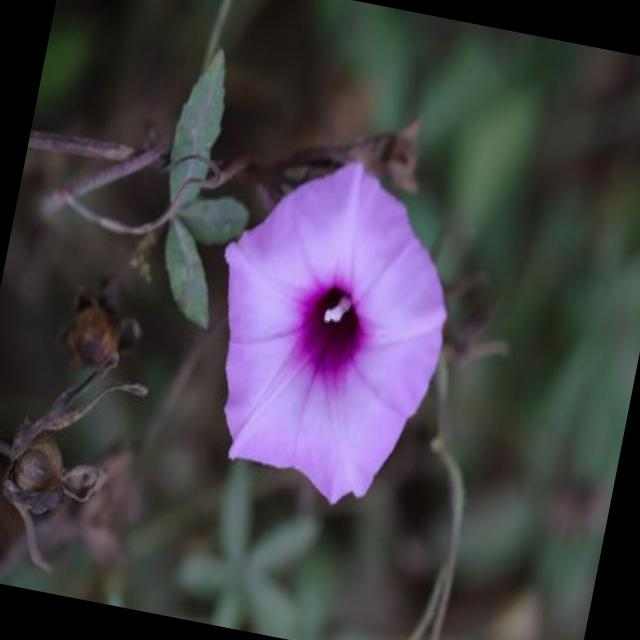ipomoea: (178, 136, 478, 525)
